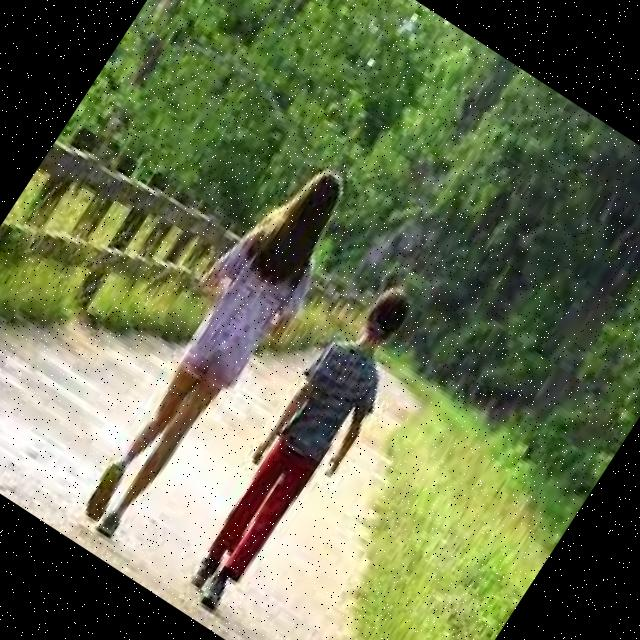Person: (58, 143, 371, 557), (169, 272, 437, 624)
